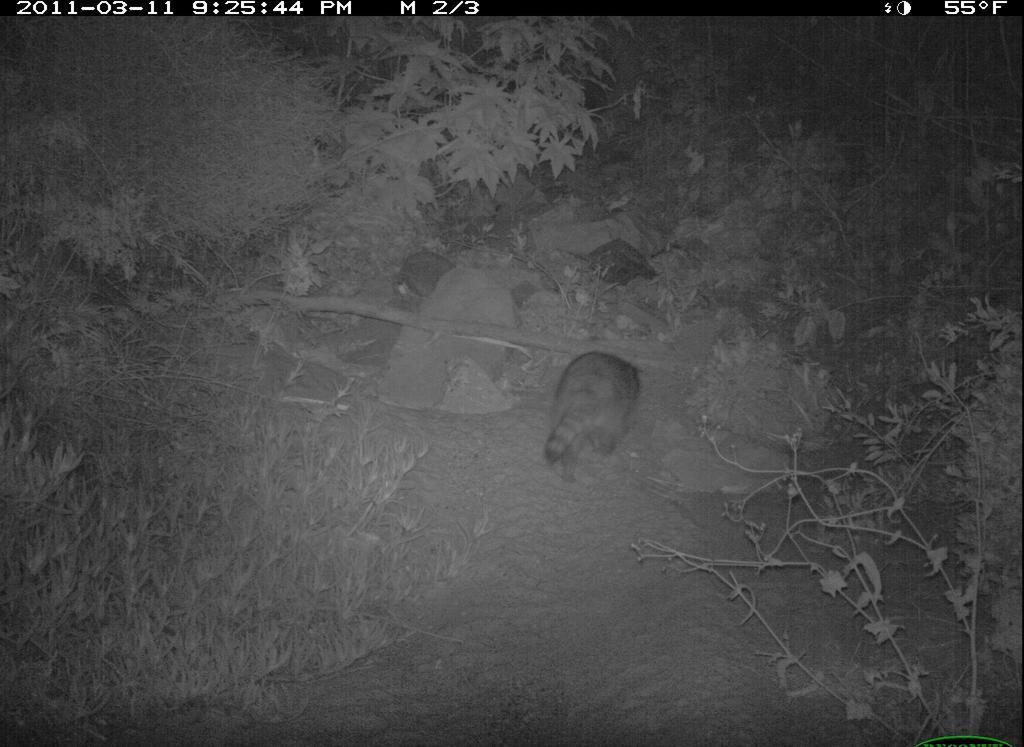raccoon: (528, 345, 661, 481)
